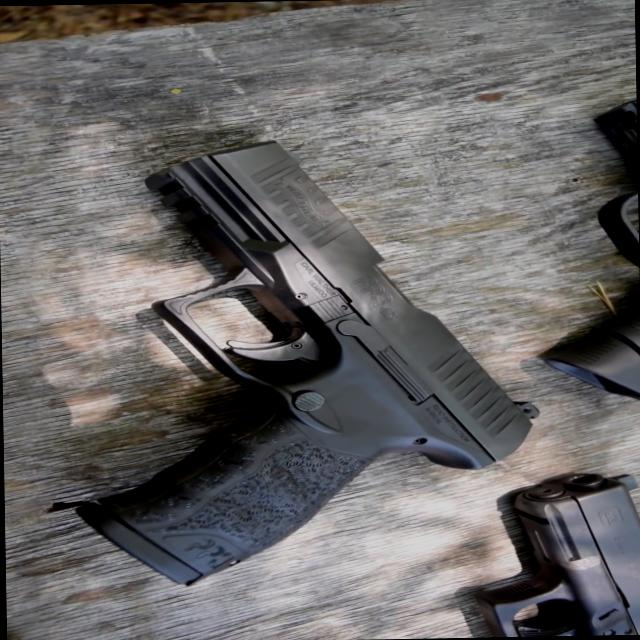handgun: (59, 120, 546, 582), (471, 468, 639, 637)
